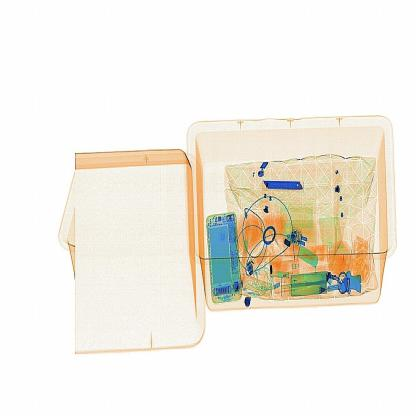pliers: (260, 179, 309, 201)
